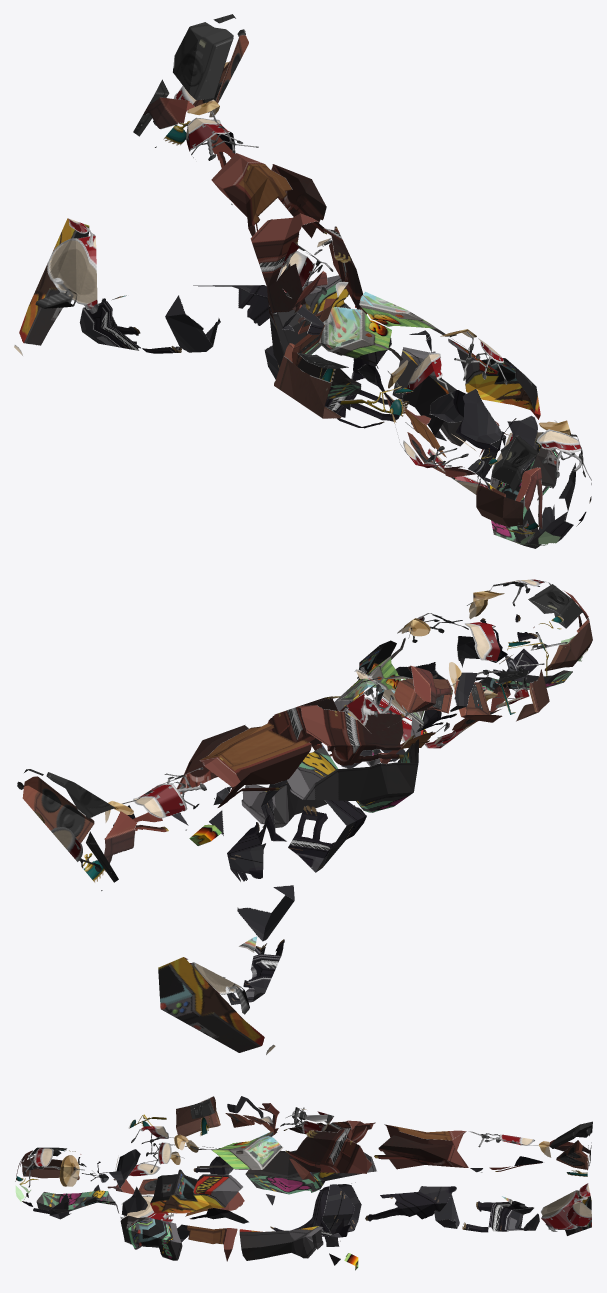
3 renders of one model, top to bottom at view 1: azimuth 30°, elevation 25°; view 2: azimuth 150°, elevation 25°; view 3: azimuth 270°, elevation 25°, orthographic. The views are drawn at different scales.
Bounding box in the file's own units: 0.5434 × 0.5346 × 1.59.
